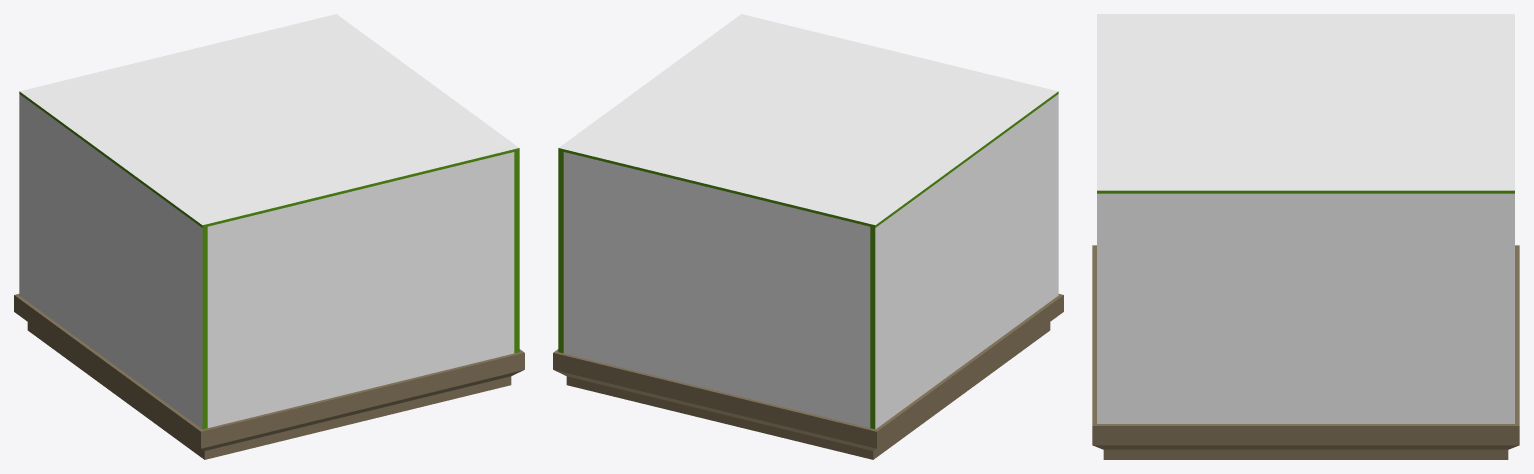
Rendered from boss-lair.gltf.
The picture shows the model from 3 angles, left to right: view 1: azimuth 30°, elevation 25°; view 2: azimuth 150°, elevation 25°; view 3: azimuth 270°, elevation 25°; orthographic projection. The views are drawn at different scales.
Bounding box in the file's own units: 332 × 234 × 332.
2 materials, 2 textured.
